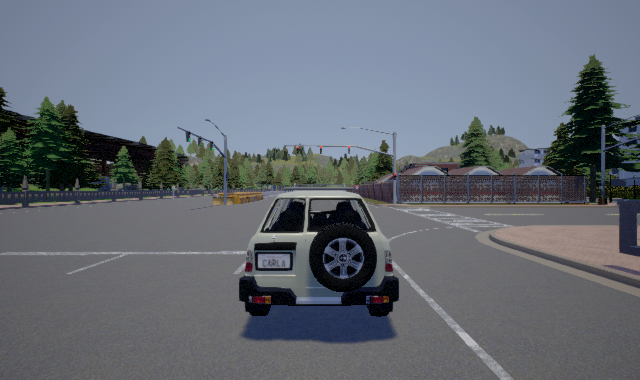traffic_light: (186, 131, 191, 142), (198, 136, 203, 146), (210, 141, 214, 150), (226, 173, 229, 181), (393, 173, 396, 180), (348, 146, 350, 154), (320, 146, 322, 154), (297, 146, 299, 154)
vehicle: (239, 183, 399, 317)
